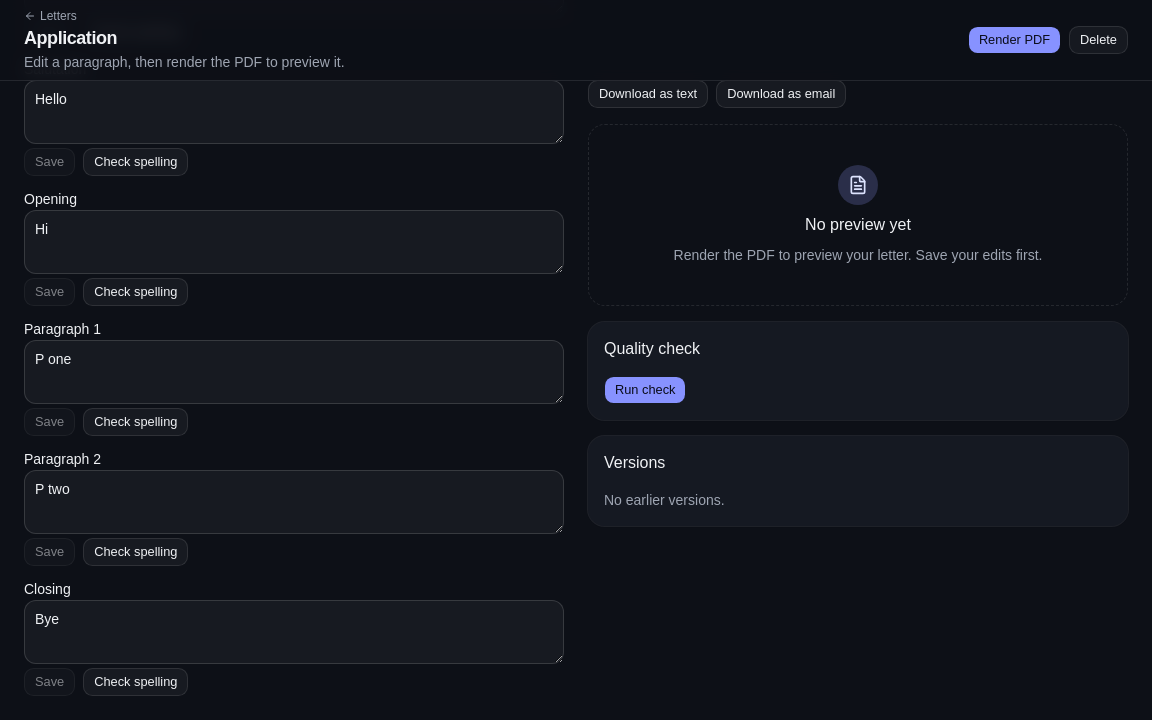
Test: editing one paragraph enables only its Save, which PATCHes that paragraph index
(page scrolled)
Expected: the button with aria-label "Save Paragraph 2" is disabled, [24, 538, 75, 566]
Expected: the button with aria-label "Save Paragraph 1" is disabled, [24, 408, 75, 436]
Type " edited" into the text box labelled "Paragraph 2" at (294, 502), box [24, 470, 564, 534]
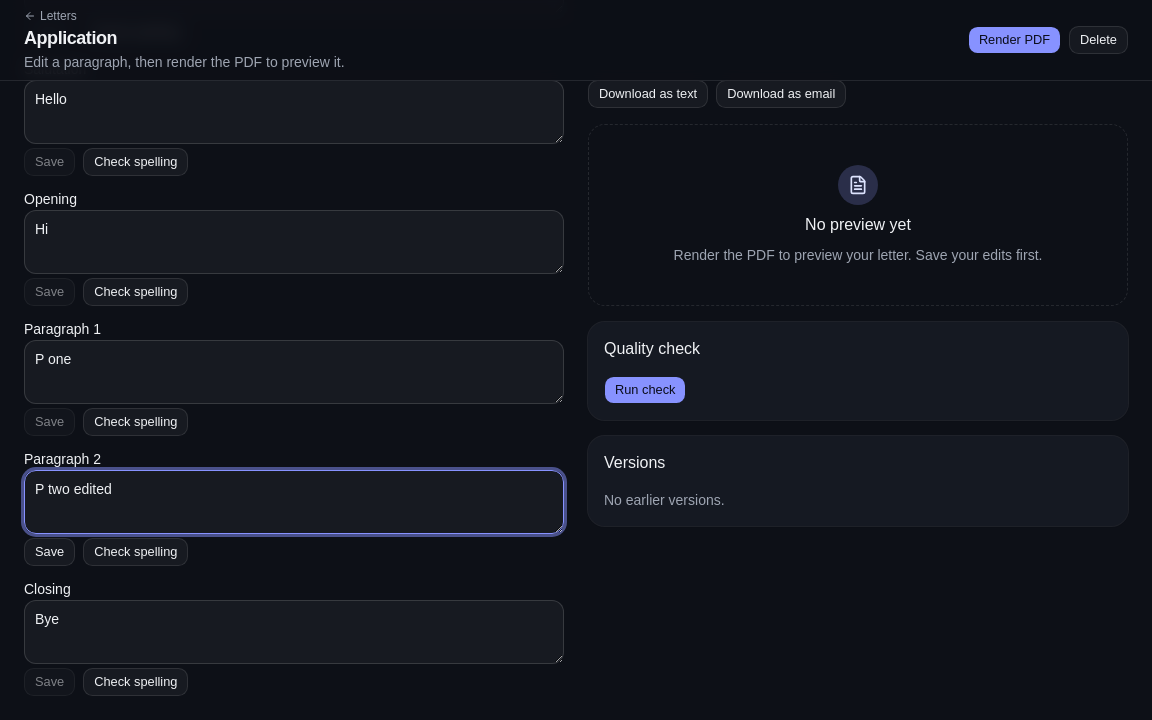
Expected: the button with aria-label "Save Paragraph 1" is disabled, [24, 408, 75, 436]
Click the button with aria-label "Save Paragraph 2" at (50, 552), box [24, 538, 75, 566]
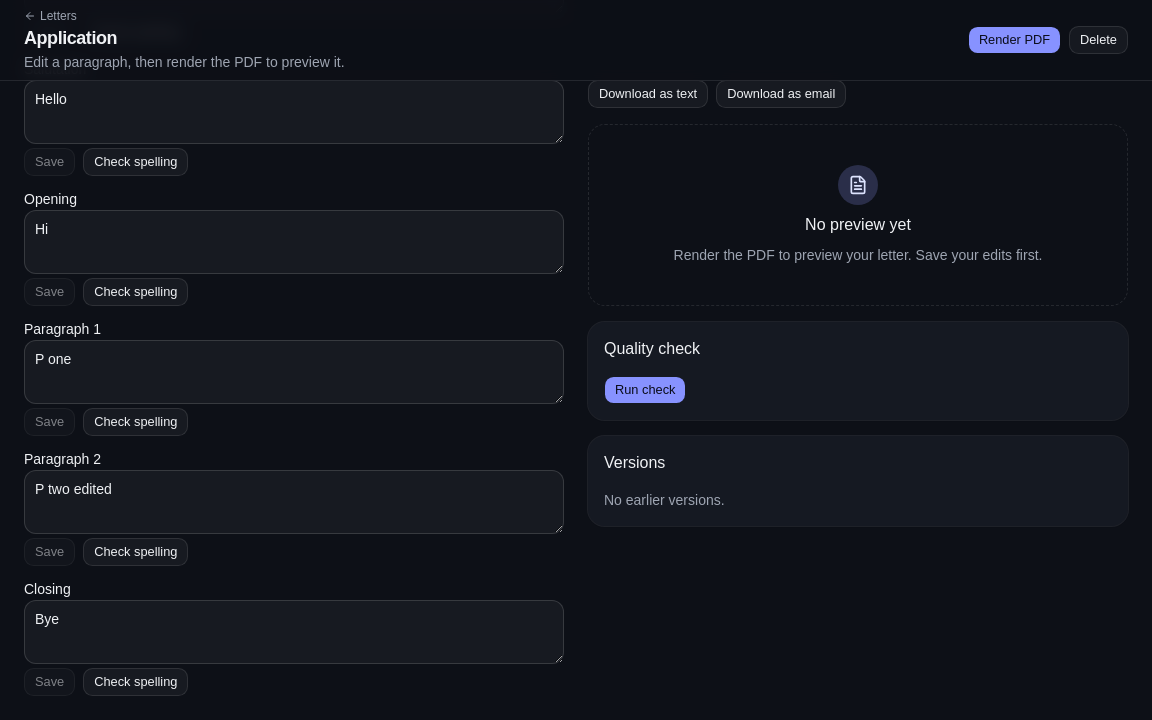
Now the button with aria-label "Save Paragraph 2" is disabled, box [24, 538, 75, 566]
